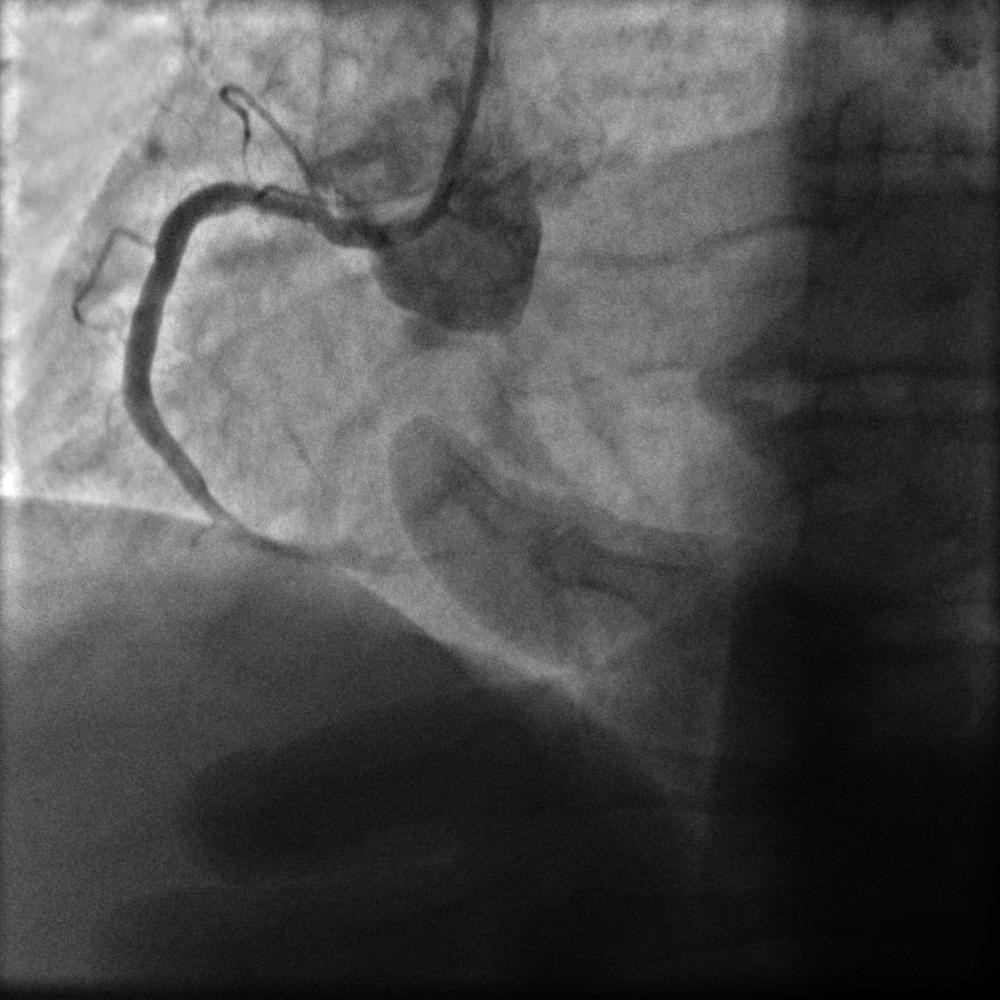Stenosis: (222, 169, 330, 246)
